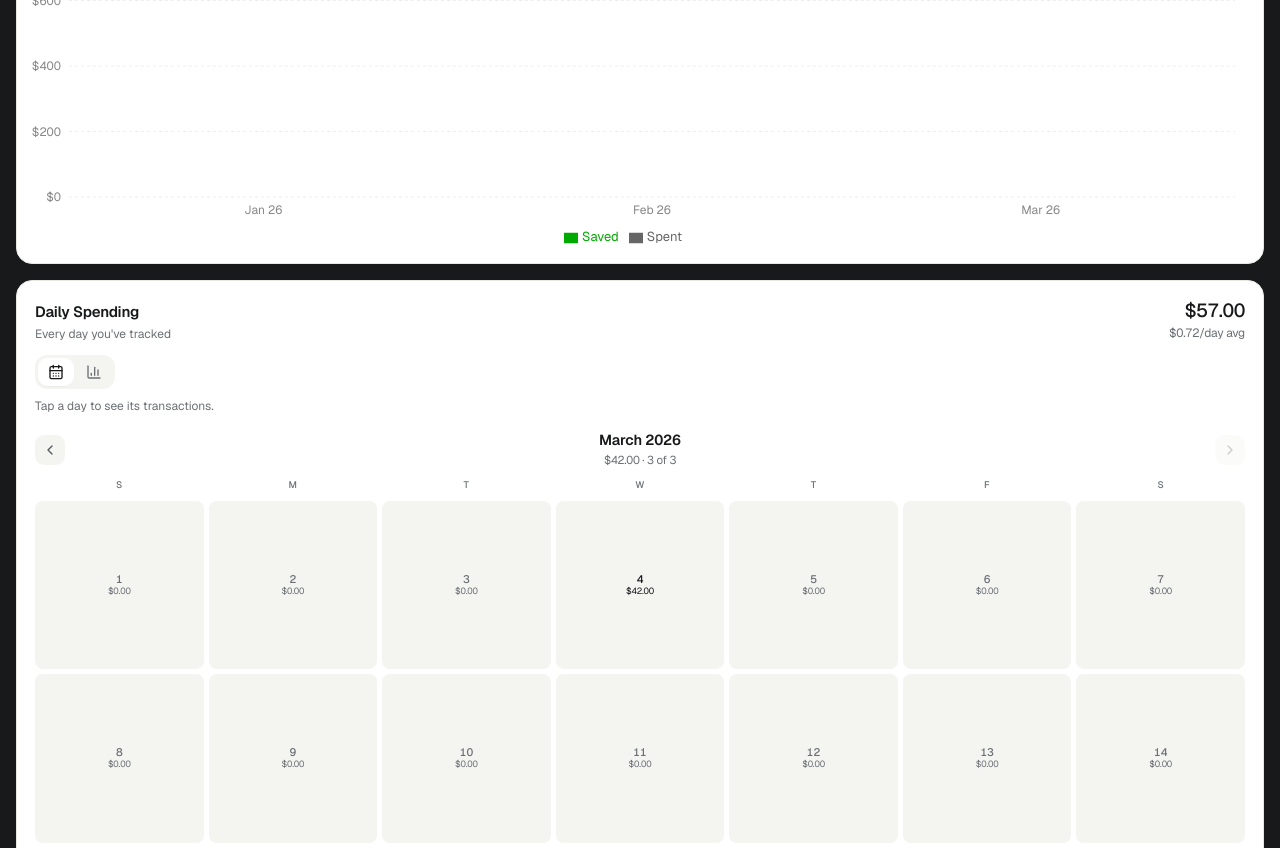
Test: the daily calendar › pages by month, so a long history stays readable
(page scrolled)
expect the button named "4 Mar: spent" is shown: met, box x1=556 y1=500 x2=724 y2=669
What coordinates should you click on to do the following:
click the button named "Previous month"
I would click on:
 (50, 450)
Its box is x1=35 y1=435 x2=65 y2=465.
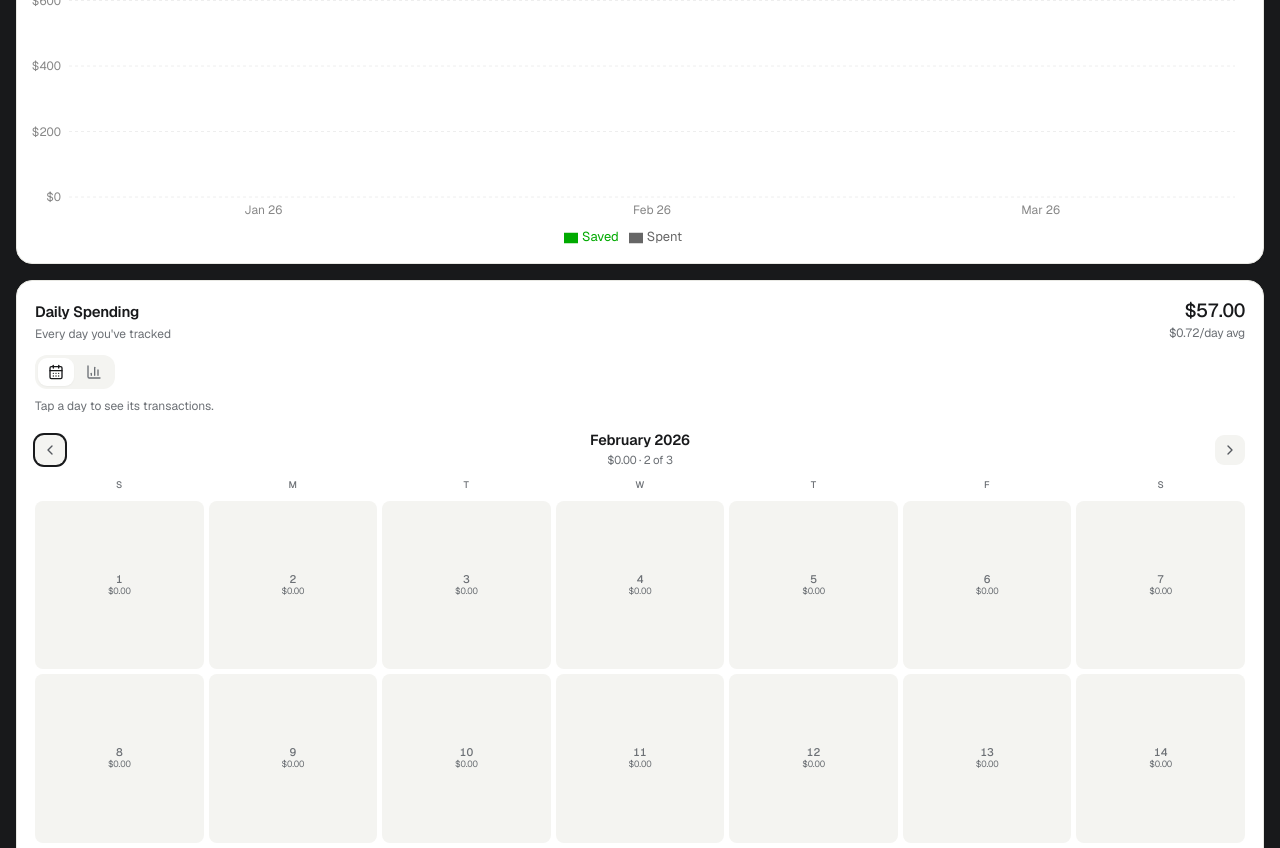
What coordinates should you click on to do the following:
click the button named "Previous month"
I would click on:
 (50, 450)
Its box is x1=35 y1=435 x2=65 y2=465.
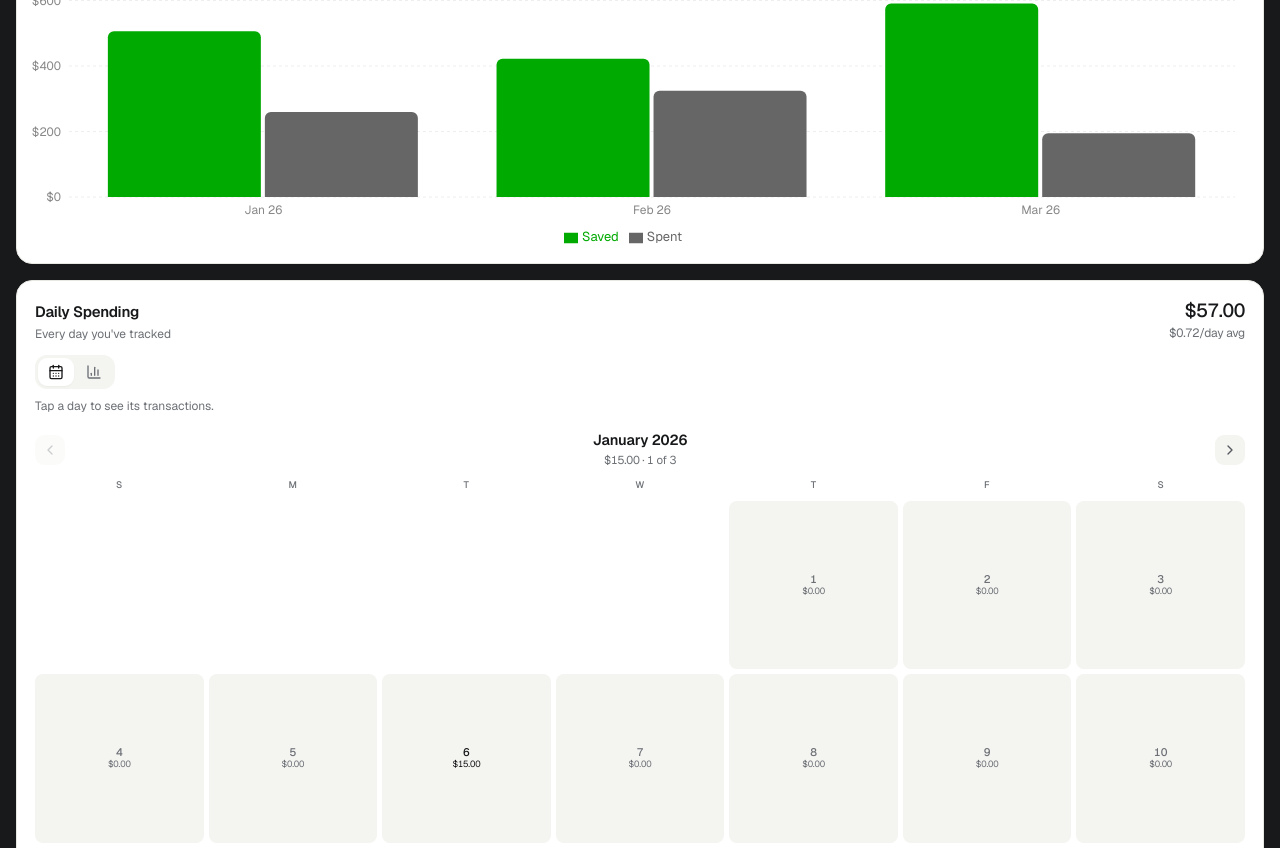
expect the button named "6 Jan: spent $15.00" is shown: met, box x1=382 y1=674 x2=551 y2=843
